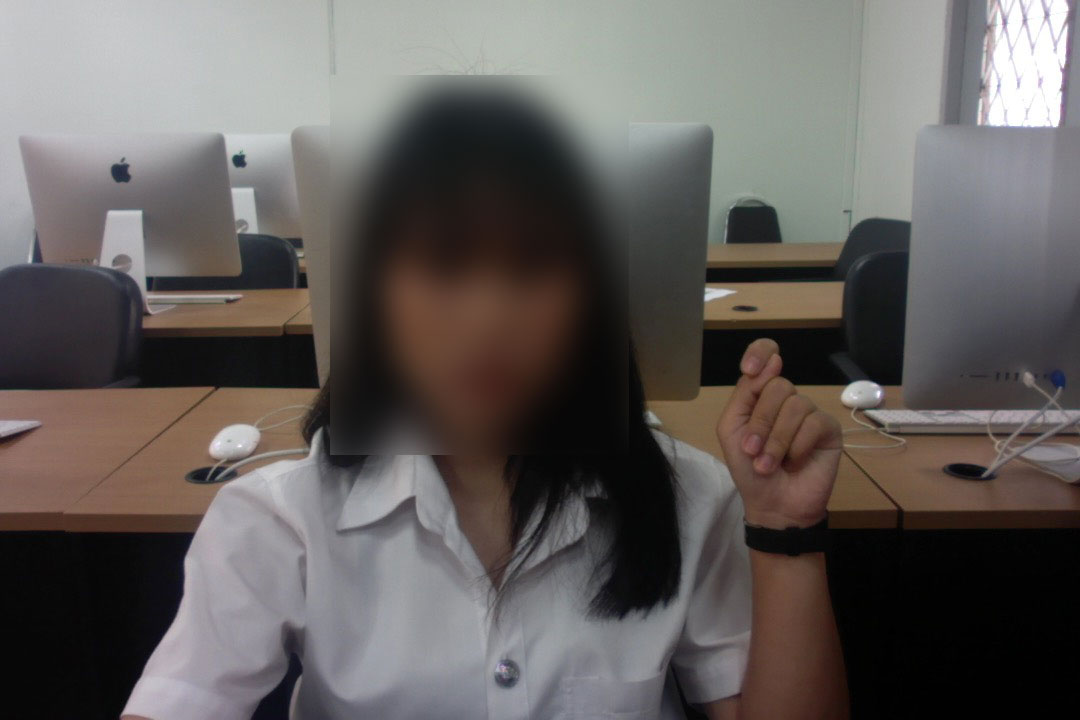tor: (710, 339, 849, 546)
